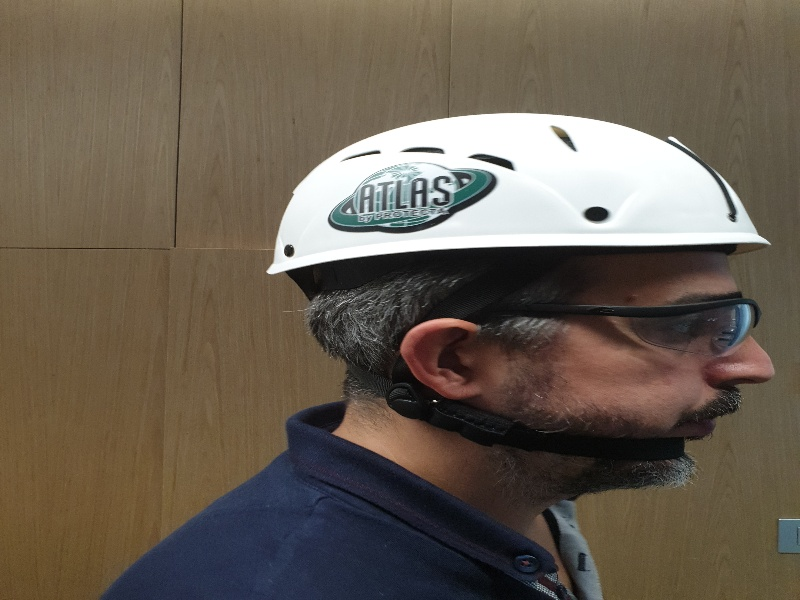Baret: (267, 112, 772, 270)
Gozluk: (482, 298, 759, 359)
